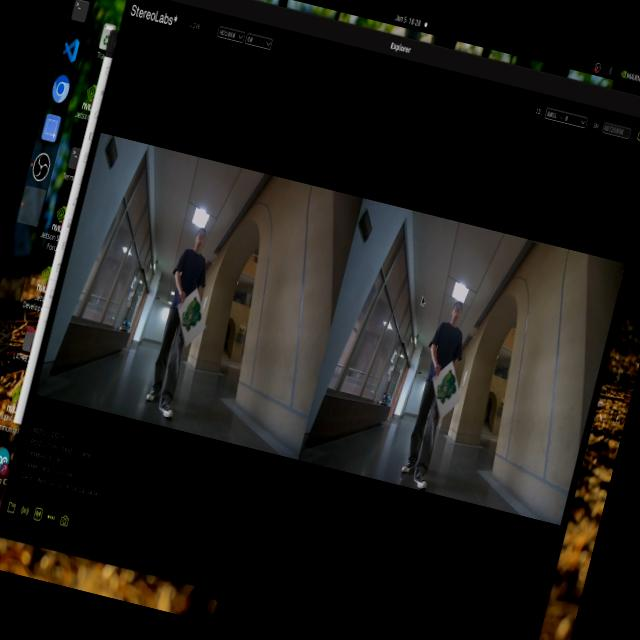green: (164, 277, 215, 343), (428, 372, 468, 424)
